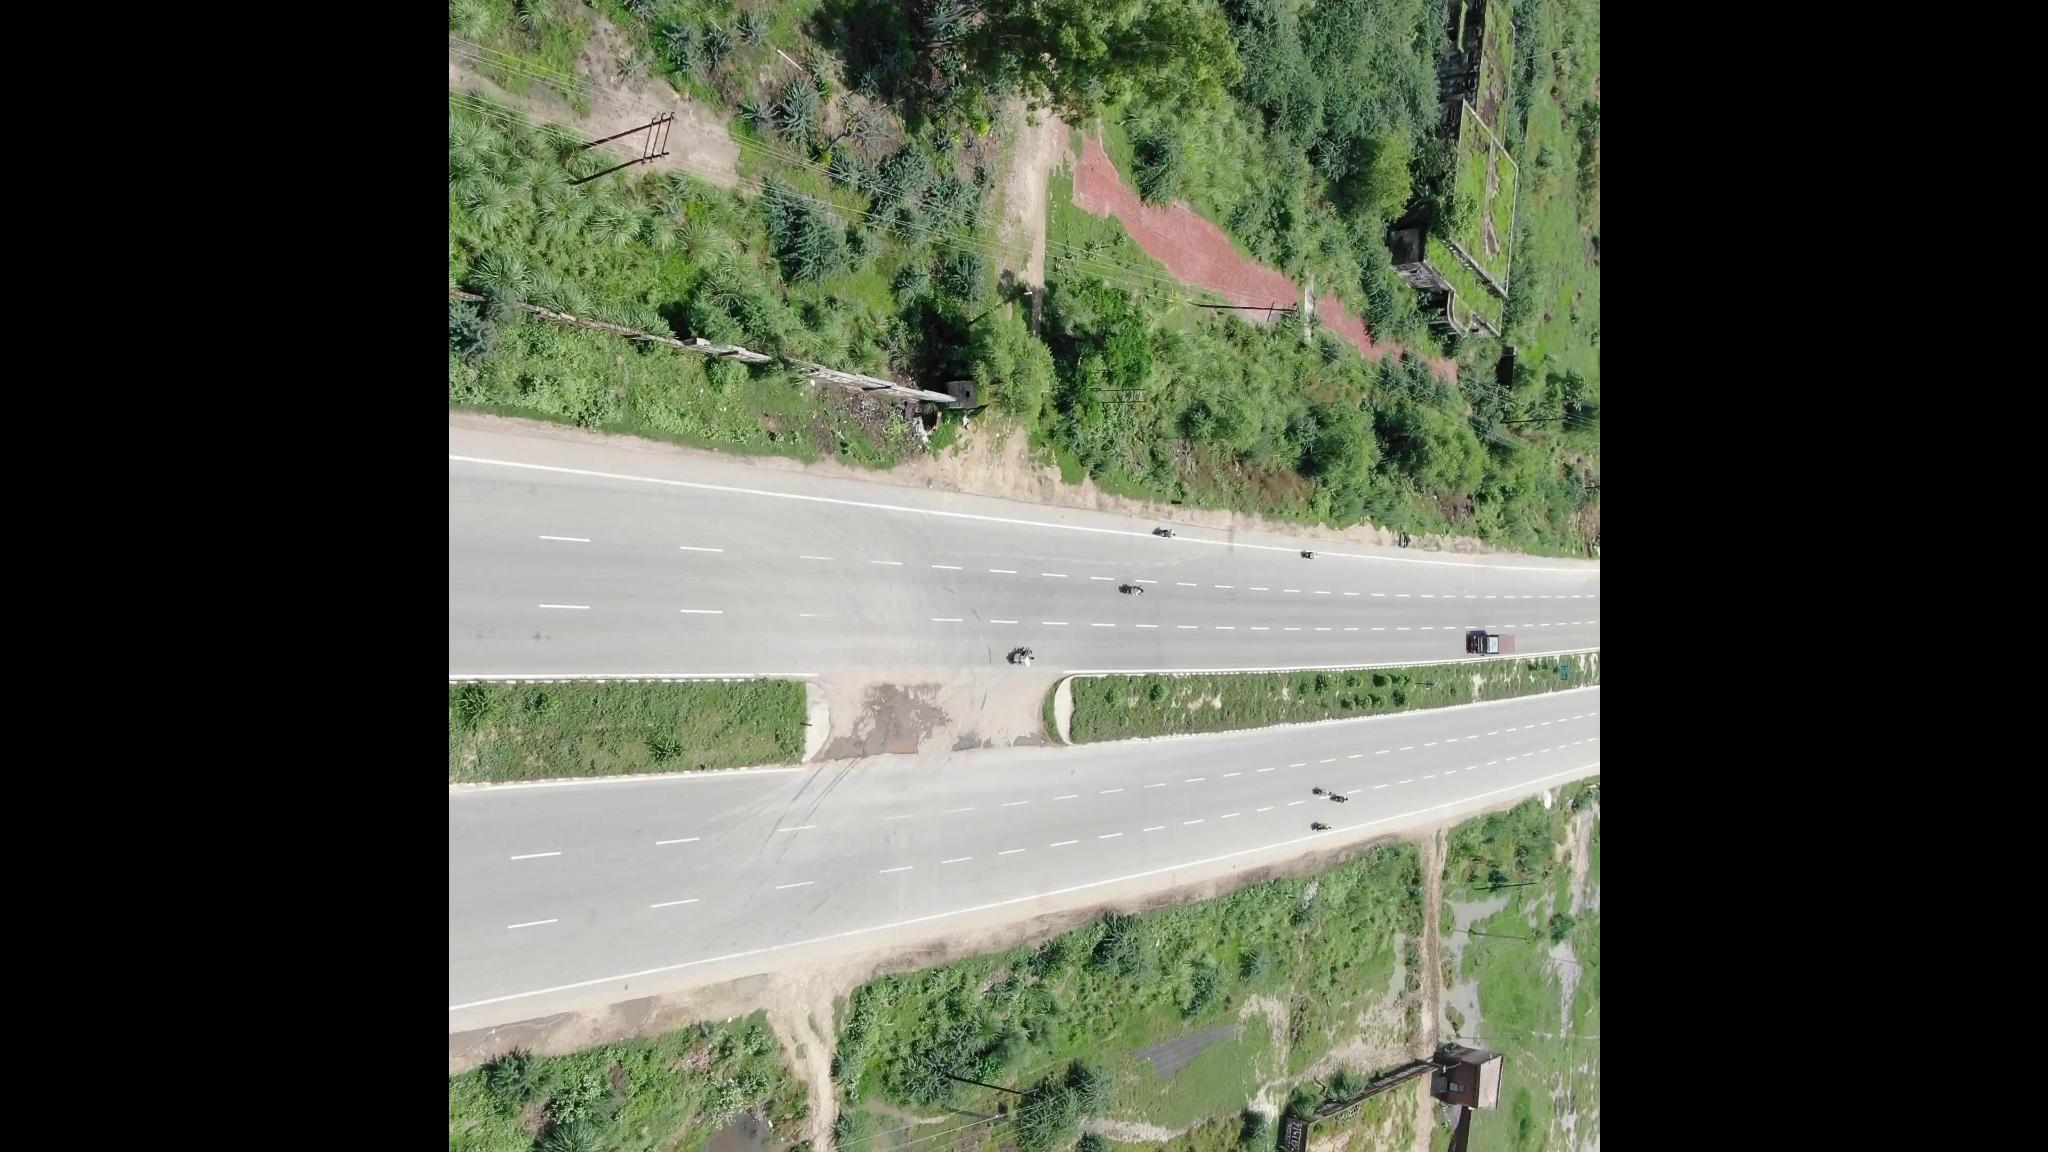Potholes: (945, 731, 999, 767)
